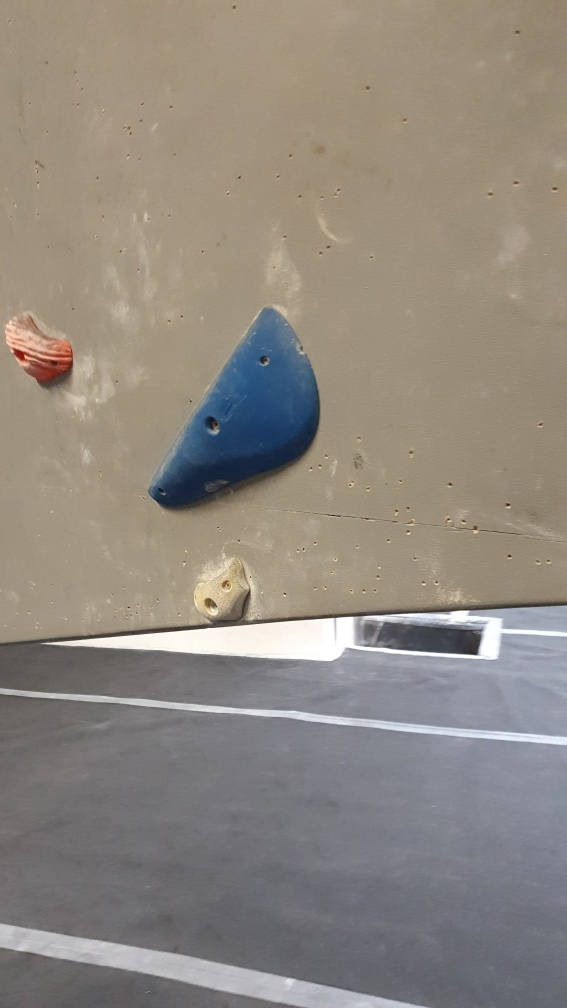Jug: (1, 307, 79, 389)
